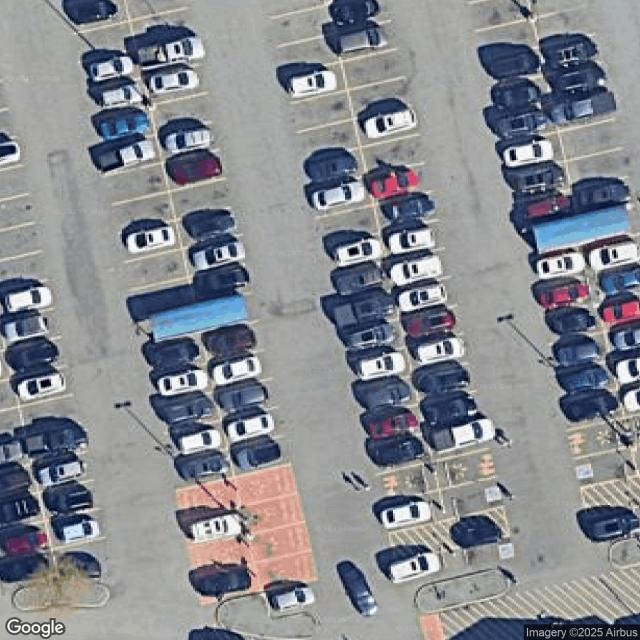car: (136, 36, 207, 70), (94, 138, 157, 175), (554, 90, 618, 126), (26, 421, 79, 460), (204, 322, 256, 357), (575, 180, 635, 210), (311, 180, 365, 213), (146, 338, 196, 373), (513, 163, 569, 194), (545, 34, 593, 70), (494, 109, 551, 139), (587, 509, 640, 541), (192, 266, 246, 297), (161, 395, 215, 426), (198, 568, 252, 599), (334, 263, 383, 297), (364, 108, 416, 140), (488, 47, 540, 79), (386, 194, 436, 227), (212, 354, 263, 386), (337, 25, 391, 55), (190, 513, 242, 544), (98, 108, 148, 140), (536, 280, 589, 310), (236, 440, 284, 473), (489, 80, 540, 111), (5, 341, 57, 371), (392, 253, 442, 284), (218, 382, 269, 412), (564, 391, 615, 421), (37, 458, 86, 489), (304, 152, 356, 181), (588, 241, 640, 270), (17, 372, 67, 402), (183, 212, 236, 240), (194, 242, 243, 272), (332, 300, 393, 324), (370, 167, 420, 196), (180, 454, 231, 482), (291, 69, 338, 99), (158, 370, 208, 398), (522, 193, 572, 221), (504, 138, 554, 166), (4, 313, 49, 344), (227, 413, 275, 442), (427, 428, 490, 450), (165, 126, 211, 156), (127, 225, 177, 252), (557, 368, 611, 393), (548, 308, 598, 335), (552, 68, 602, 95), (4, 285, 52, 313), (4, 527, 48, 557), (65, 0, 122, 23), (536, 254, 586, 280), (150, 68, 198, 95), (178, 430, 224, 458), (336, 238, 382, 266), (388, 226, 434, 254), (0, 493, 41, 524), (1, 555, 48, 582), (421, 401, 478, 423), (88, 56, 136, 82), (355, 355, 407, 379), (554, 338, 602, 364), (369, 440, 420, 464), (58, 552, 105, 578), (357, 386, 410, 409), (101, 82, 146, 109), (274, 586, 316, 614), (366, 414, 414, 438), (600, 265, 640, 293), (414, 342, 464, 364), (390, 558, 440, 580), (52, 488, 94, 514), (347, 328, 396, 350), (399, 289, 450, 310), (329, 2, 382, 22), (382, 507, 432, 528), (61, 518, 100, 544), (598, 299, 639, 323), (421, 372, 470, 392), (405, 317, 450, 336), (2, 472, 34, 494), (611, 329, 640, 353), (0, 440, 24, 466), (617, 360, 640, 384), (1, 140, 22, 163), (623, 386, 640, 414)
lot_boundary: (1, 1, 639, 639)
objects: (531, 204, 634, 253), (149, 295, 251, 343), (217, 595, 319, 638), (417, 570, 510, 613), (13, 582, 107, 611), (610, 536, 639, 567)
stall: (40, 476, 104, 519), (26, 420, 89, 463), (34, 448, 97, 491), (45, 508, 108, 551), (5, 335, 68, 378), (52, 537, 115, 580), (342, 48, 404, 91), (362, 133, 424, 176), (317, 204, 379, 247), (297, 118, 359, 161), (285, 62, 347, 105), (360, 404, 422, 447), (324, 232, 386, 275), (272, 3, 334, 46), (452, 536, 514, 579), (350, 346, 412, 389), (343, 317, 405, 360), (394, 275, 456, 318), (337, 289, 399, 332), (169, 177, 231, 220), (433, 447, 495, 490), (425, 419, 487, 462), (376, 461, 438, 504), (87, 76, 149, 119), (162, 149, 224, 192), (182, 234, 244, 277), (125, 248, 187, 291), (136, 34, 198, 77), (80, 48, 142, 91), (182, 235, 244, 278), (214, 377, 276, 420), (157, 391, 219, 434), (207, 348, 269, 391), (150, 361, 212, 404), (241, 492, 303, 535), (177, 477, 239, 520), (228, 435, 290, 478), (172, 449, 234, 492), (221, 407, 283, 450), (510, 159, 572, 202), (561, 118, 623, 161), (196, 561, 258, 604), (253, 550, 315, 593), (484, 44, 546, 87), (490, 73, 552, 116), (497, 102, 559, 145), (574, 445, 636, 488), (568, 417, 630, 460), (562, 388, 624, 431), (132, 6, 194, 49), (12, 364, 74, 407), (143, 63, 206, 105), (533, 6, 596, 48), (189, 264, 250, 307), (355, 106, 417, 148), (349, 77, 411, 119), (310, 177, 372, 219), (304, 148, 366, 190), (292, 91, 354, 133), (330, 260, 392, 302), (375, 192, 437, 234), (368, 163, 430, 205), (335, 21, 397, 63), (278, 33, 340, 75), (395, 550, 457, 592), (411, 361, 473, 403), (355, 375, 417, 417), (406, 333, 468, 375), (400, 304, 462, 346), (388, 248, 450, 290), (439, 476, 501, 518), (383, 491, 445, 533), (417, 391, 479, 433), (425, 420, 487, 462), (367, 434, 429, 476), (381, 219, 443, 261), (150, 92, 212, 134), (94, 105, 156, 147), (157, 120, 219, 162), (100, 134, 162, 176), (108, 163, 170, 205), (114, 191, 176, 233), (145, 332, 207, 374), (119, 220, 181, 262), (131, 277, 193, 319), (175, 205, 237, 247), (183, 507, 245, 549), (234, 464, 296, 506), (166, 421, 228, 463), (530, 244, 592, 286), (566, 148, 628, 190), (503, 132, 565, 174), (246, 522, 308, 564), (189, 535, 251, 577), (548, 331, 610, 373), (542, 303, 604, 345), (536, 273, 598, 315), (540, 33, 602, 75), (547, 60, 609, 102), (553, 90, 615, 132), (555, 360, 617, 402), (478, 18, 540, 60), (74, 21, 136, 63), (201, 321, 264, 362), (0, 307, 63, 348), (578, 507, 639, 549), (18, 393, 80, 434), (263, 580, 322, 621), (64, 0, 130, 36), (0, 550, 57, 591), (514, 190, 576, 227), (0, 280, 56, 320), (0, 520, 52, 563), (572, 177, 632, 213), (592, 258, 639, 303), (586, 234, 639, 273), (327, 0, 388, 33), (0, 251, 49, 292), (471, 0, 535, 30), (0, 493, 45, 533), (0, 223, 41, 263), (603, 318, 639, 361), (0, 465, 38, 504), (125, 0, 188, 23), (597, 296, 639, 330), (0, 435, 31, 474), (529, 0, 589, 20), (0, 194, 33, 230), (266, 0, 327, 18), (613, 354, 640, 390), (0, 165, 27, 199), (0, 406, 25, 442), (618, 380, 639, 418), (0, 135, 22, 169)
